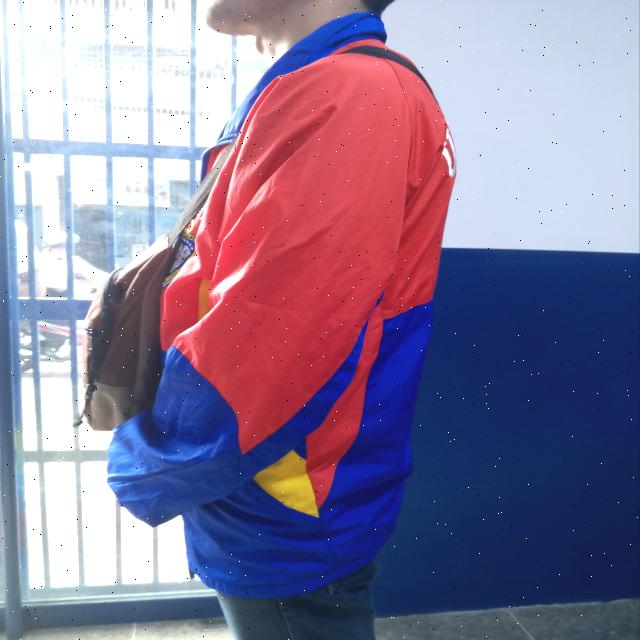chaqueta_unefa: (106, 11, 460, 600)
pantalon_oscuro: (207, 563, 378, 640)
